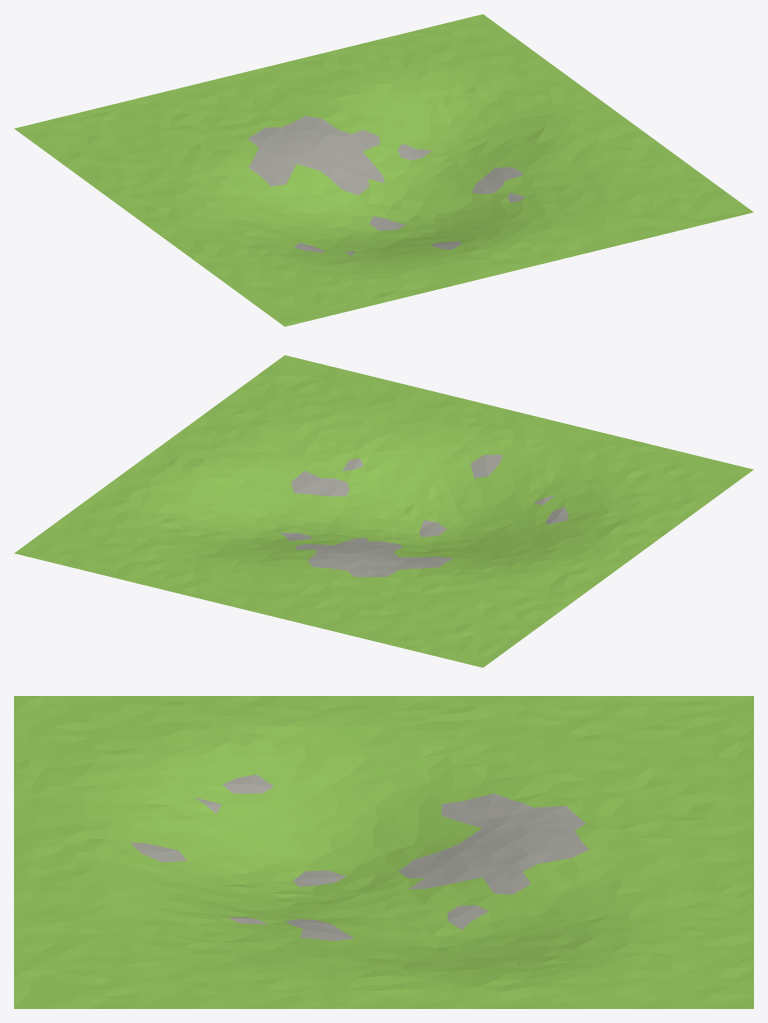
The model's file is terrain_l_c_06.glb.
3 views of the same model, one above another, from view 1: azimuth 30°, elevation 25°; view 2: azimuth 150°, elevation 25°; view 3: azimuth 270°, elevation 25° (orthographic). The views are drawn at different scales.
Visible parts, largest first — view 1: CPT_Terrain_L_c_06; view 2: CPT_Terrain_L_c_06; view 3: CPT_Terrain_L_c_06.
Part boxes in pixels (x1,y1,x2,y2): CPT_Terrain_L_c_06: (14, 14, 753, 326); CPT_Terrain_L_c_06: (14, 355, 753, 667); CPT_Terrain_L_c_06: (14, 696, 753, 1008).
Bounding box in the file's own units: 100 × 6.34 × 100.
Materials: 1 (1 with a texture image).
